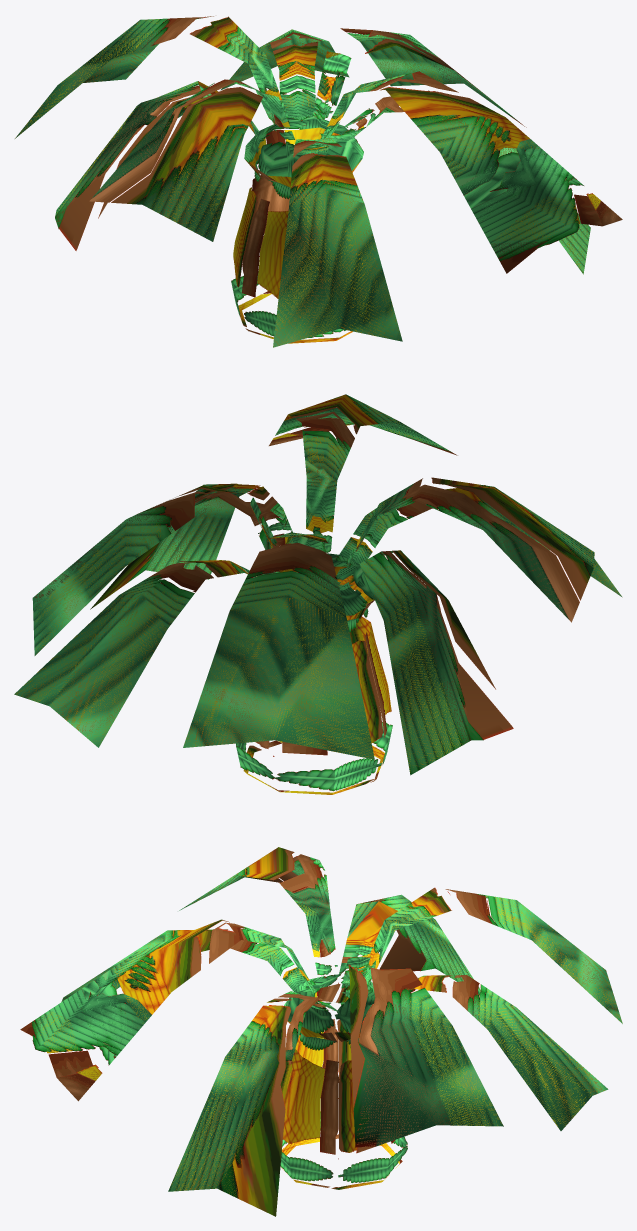
The model's file is actor.obj.
3 renders of one model, top to bottom at view 1: azimuth 30°, elevation 25°; view 2: azimuth 150°, elevation 25°; view 3: azimuth 270°, elevation 25°, orthographic. The views are drawn at different scales.
Parts seen in each view (by area): view 1: actor; view 2: actor; view 3: actor.
Part boxes in pixels (x1,y1,x2,y2): actor: (15, 16, 622, 347); actor: (14, 394, 622, 794); actor: (20, 847, 622, 1216).
Size of the model in its own units: 27.65 by 16.64 by 32.78.
1 material, 1 textured.
